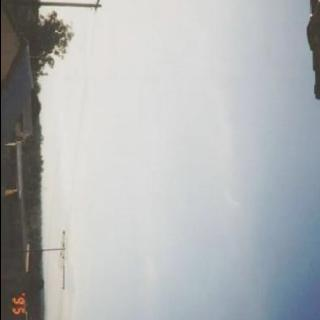Cirrostratus: (30, 0, 304, 320)
